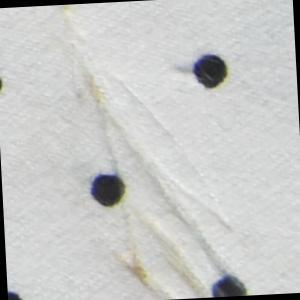Damage: (69, 32, 245, 300)
Oil Stain: (108, 201, 211, 300), (86, 71, 105, 109)
